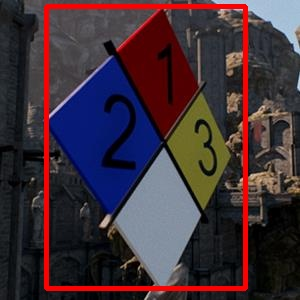nfpa: (46, 6, 245, 288)
